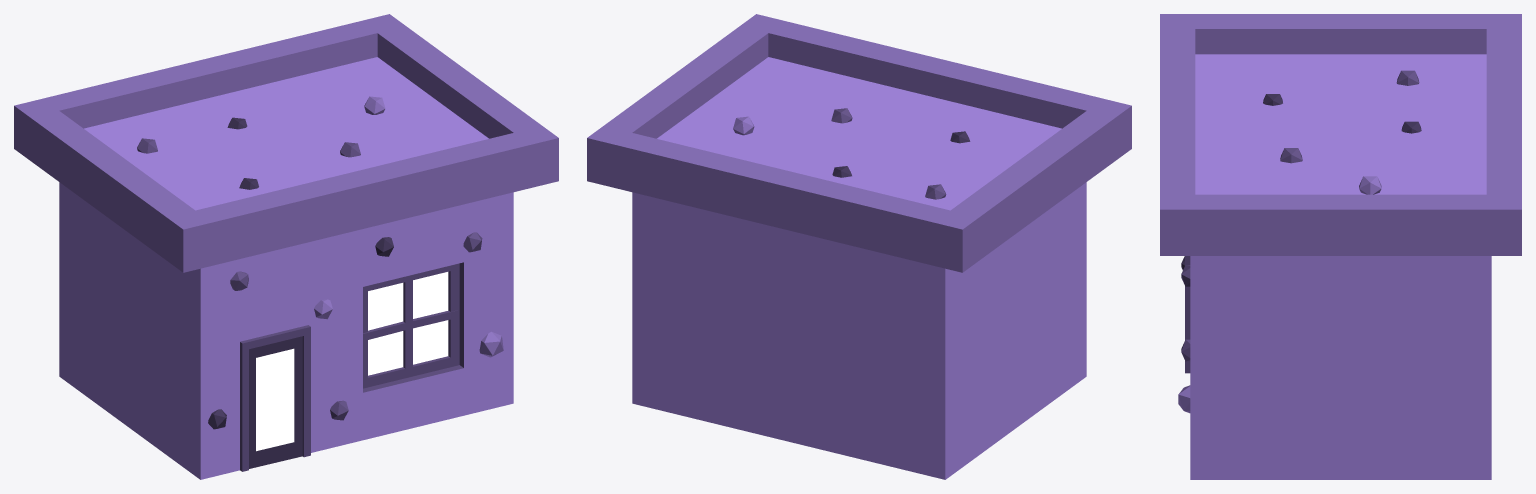
The model's file is Purple nerd Small building.fbx.
3 renders of one model, left to right at view 1: azimuth 30°, elevation 25°; view 2: azimuth 150°, elevation 25°; view 3: azimuth 270°, elevation 25°, orthographic. The views are drawn at different scales.
Visible parts, largest first — view 1: Purple nerd small building; view 2: Purple nerd small building; view 3: Purple nerd small building.
Boxes of the visible parts, <box> form: Purple nerd small building: <box>14,14,558,479</box>; Purple nerd small building: <box>587,14,1131,479</box>; Purple nerd small building: <box>1160,14,1521,479</box>.
Bounding box in the file's own units: 1262 × 862 × 986.
